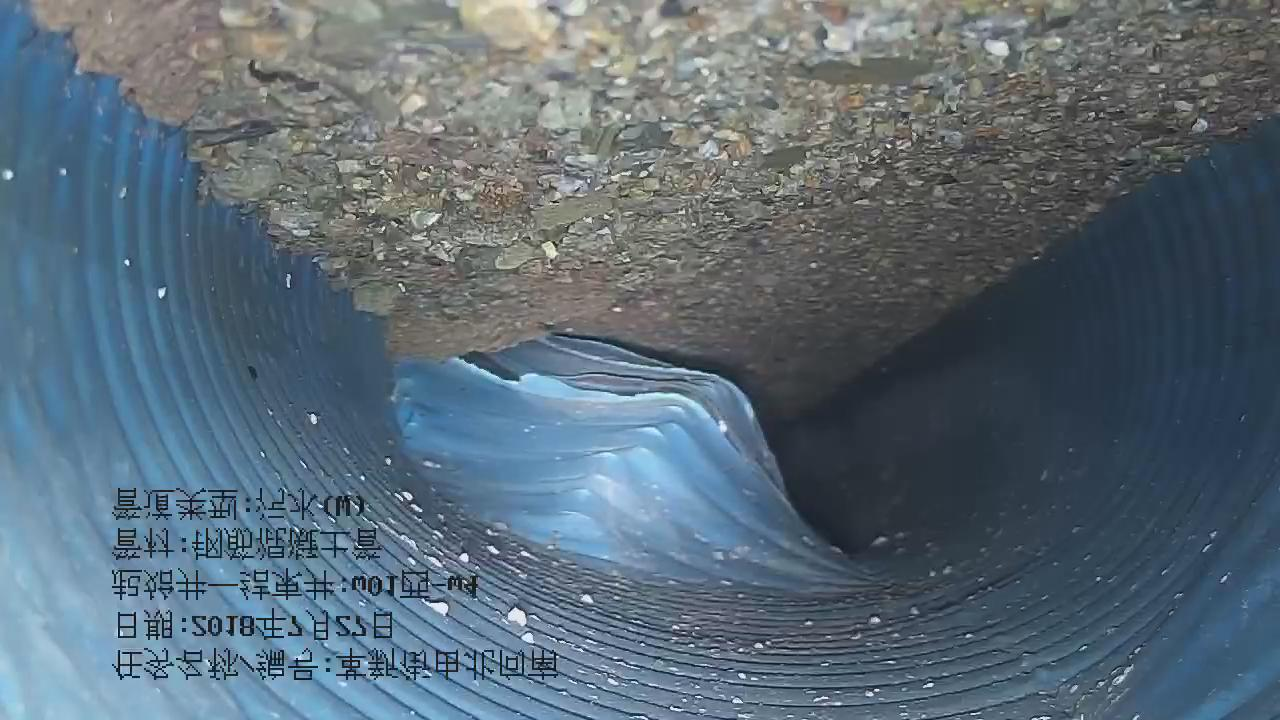BX: (395, 336, 859, 581)
CJ: (30, 1, 1279, 420)
